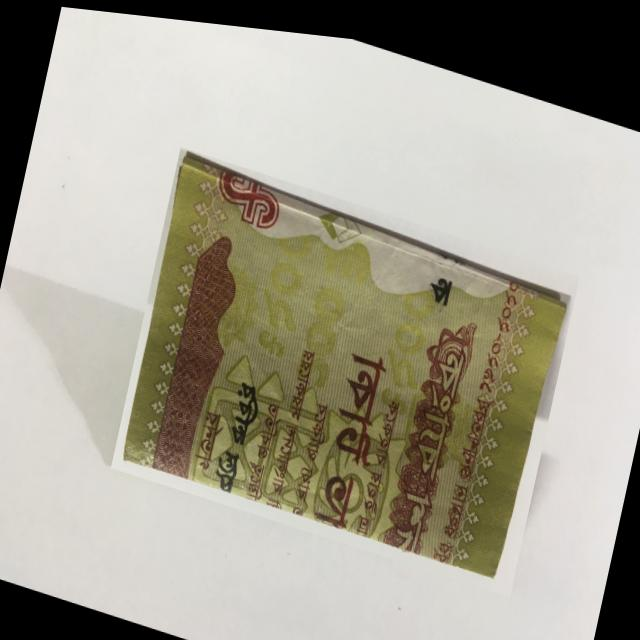Taka: (110, 136, 579, 591)
